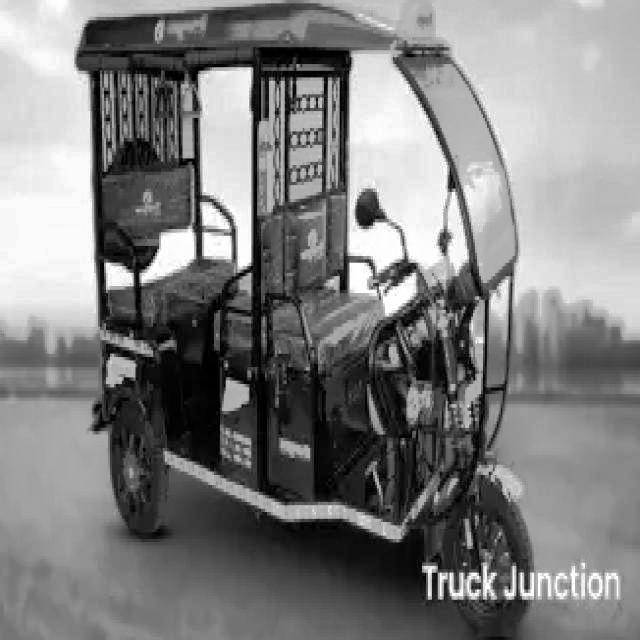Toto: (75, 0, 529, 640)
